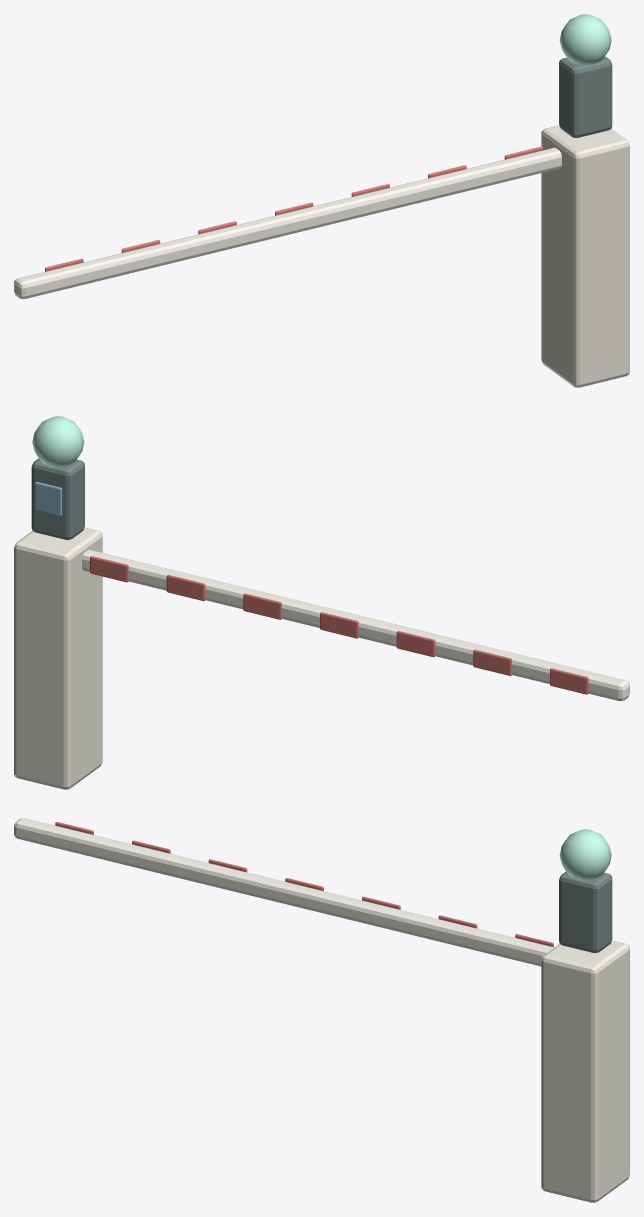
The model's file is ParkingBarrier.fbx.
The picture shows the model from 3 angles, top to bottom: view 1: azimuth 30°, elevation 25°; view 2: azimuth 150°, elevation 25°; view 3: azimuth 330°, elevation 25°; orthographic projection.
Parts seen in each view (by area): view 1: ParkingBarrier_V1_Ivory, ParkingBarrier_V1_Linen, ParkingBarrier_V3_Linen, ParkingBarrier_V2_Ink, ParkingBarrier_V3_Glow, ParkingBarrier_V1_Crimson; view 2: ParkingBarrier_V1_Ivory, ParkingBarrier_V1_Linen, ParkingBarrier_V1_Crimson, ParkingBarrier_V3_Linen, ParkingBarrier_V2_Ink, ParkingBarrier_V3_Glow, ParkingBarrier_V2_ScreenUI; view 3: ParkingBarrier_V1_Ivory, ParkingBarrier_V1_Linen, ParkingBarrier_V2_Ink, ParkingBarrier_V3_Linen, ParkingBarrier_V3_Glow, ParkingBarrier_V1_Crimson.
Boxes of the visible parts, left/top/right/bottom form: ParkingBarrier_V1_Ivory: left=541, top=125, right=629, bottom=387; ParkingBarrier_V1_Linen: left=14, top=147, right=561, bottom=298; ParkingBarrier_V3_Linen: left=14, top=147, right=561, bottom=299; ParkingBarrier_V2_Ink: left=559, top=56, right=612, bottom=137; ParkingBarrier_V3_Glow: left=559, top=14, right=611, bottom=65; ParkingBarrier_V1_Crimson: left=45, top=146, right=543, bottom=271; ParkingBarrier_V1_Ivory: left=14, top=527, right=102, bottom=789; ParkingBarrier_V1_Linen: left=82, top=549, right=629, bottom=701; ParkingBarrier_V1_Crimson: left=90, top=556, right=588, bottom=694; ParkingBarrier_V3_Linen: left=82, top=550, right=629, bottom=700; ParkingBarrier_V2_Ink: left=31, top=458, right=84, bottom=539; ParkingBarrier_V3_Glow: left=32, top=416, right=84, bottom=467; ParkingBarrier_V2_ScreenUI: left=35, top=481, right=62, bottom=515; ParkingBarrier_V1_Ivory: left=541, top=940, right=629, bottom=1202; ParkingBarrier_V1_Linen: left=14, top=818, right=554, bottom=966; ParkingBarrier_V2_Ink: left=559, top=871, right=612, bottom=952; ParkingBarrier_V3_Linen: left=14, top=818, right=553, bottom=957; ParkingBarrier_V3_Glow: left=559, top=829, right=611, bottom=880; ParkingBarrier_V1_Crimson: left=55, top=822, right=553, bottom=947.
Size of the model in its own units: 265 by 150 by 28.
